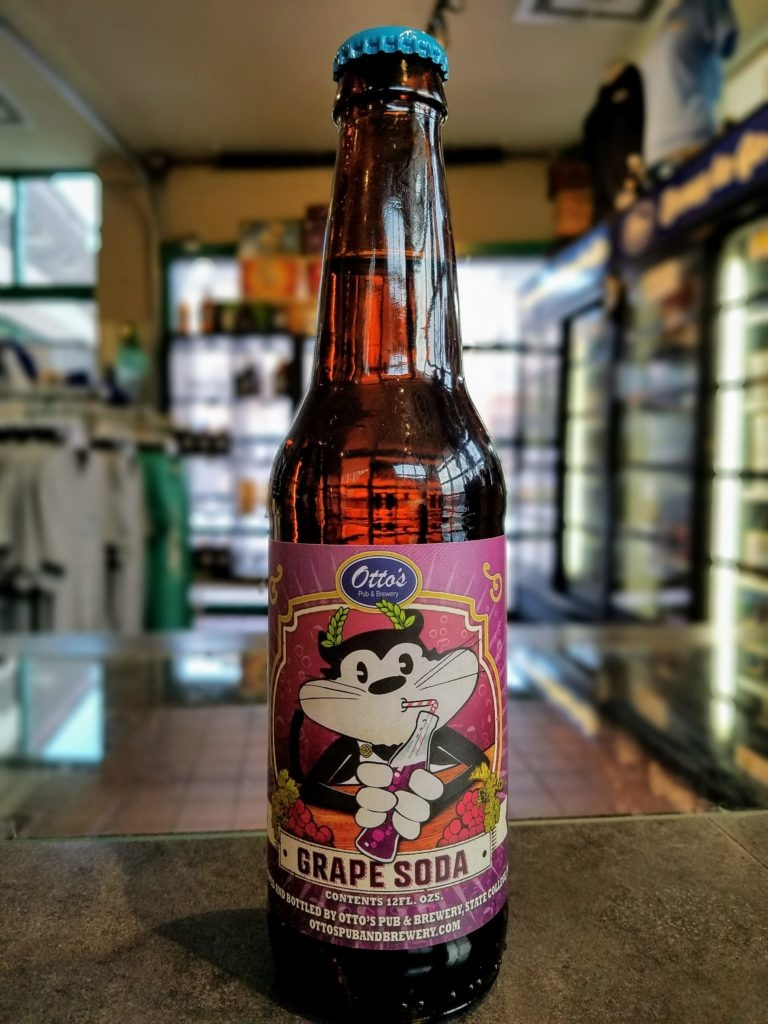beerBottle: (269, 38, 509, 1024)
